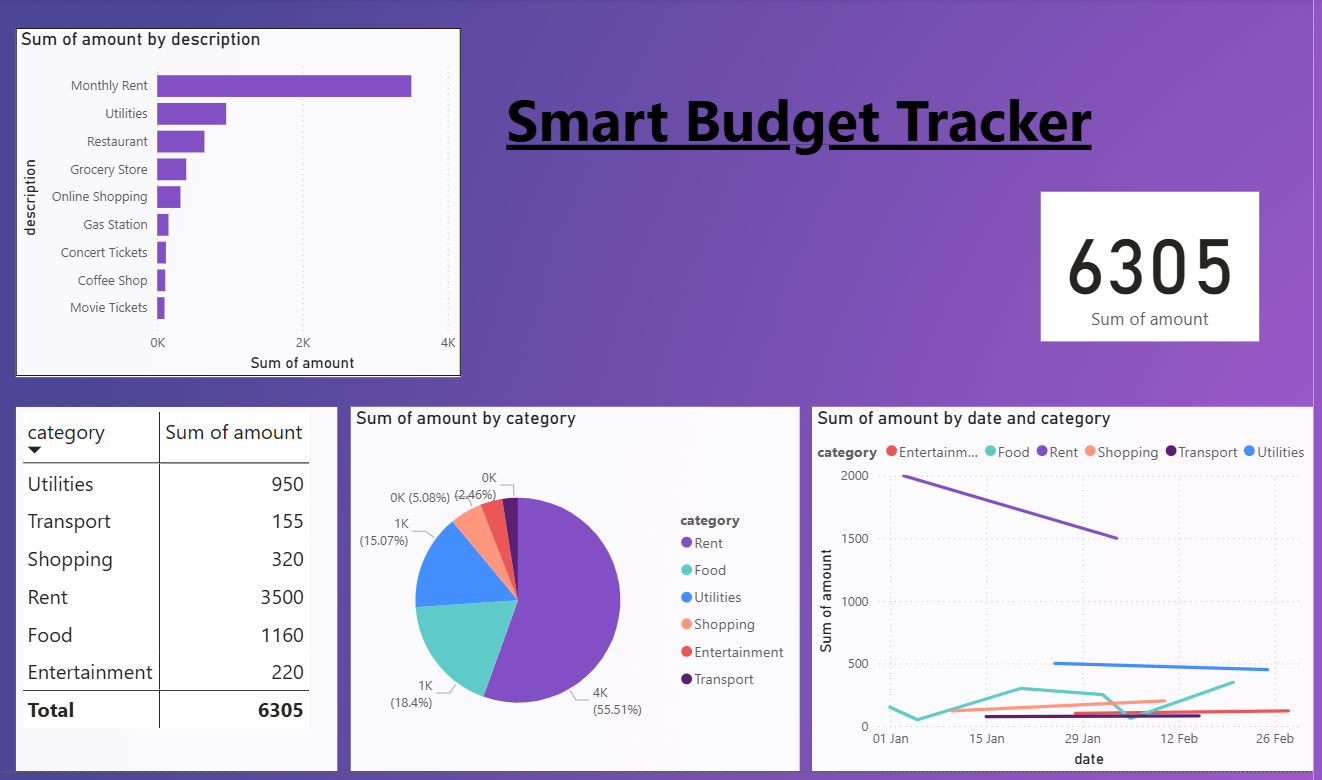

The dashboard page shown, as its layout file describes it:
{"tool":"powerbi","page":{"name":"Page 1","canvas":[1280,720],"ordinal":0},"visuals":[{"type":"lineChart","fields":{"Series":["Sheet1.category"],"Y":["Sum(Sheet1.amount)"],"Category":["Sheet1.date"]},"box":[814,380.2,466.3,340.7],"z":1000},{"type":"clusteredBarChart","fields":{"Category":["Sheet1.description"],"Y":["Sum(Sheet1.amount)"]},"box":[73.3,27.9,414,324.4],"z":2000},{"type":"tableEx","fields":{"Values":["Sheet1.category","Sum(Sheet1.amount)"]},"box":[73.3,380.2,298.8,339.5],"z":3000},{"type":"card","fields":{"Values":["Sum(Sheet1.amount)"]},"box":[1026.7,180.2,203.5,139.5],"z":4000},{"type":"textbox","box":[508.1,70.9,587.2,87.2],"z":5000},{"type":"pieChart","fields":{"Category":["Sheet1.category"],"Y":["Sum(Sheet1.amount)"]},"box":[384.9,380.2,417.4,339.5],"z":5001}]}

Visuals, with their boxes in screenshot pixels (x1, y1, x2, y2):
lineChart - Sheet1.category x Sum(Sheet1.amount): bbox(798, 405, 1290, 765)
clusteredBarChart - Sheet1.description x Sum(Sheet1.amount): bbox(15, 33, 453, 375)
tableEx - Sheet1.category x Sum(Sheet1.amount): bbox(15, 405, 331, 763)
card - Sum(Sheet1.amount): bbox(1022, 194, 1237, 341)
textbox: bbox(475, 78, 1095, 170)
pieChart - Sheet1.category x Sum(Sheet1.amount): bbox(344, 405, 785, 763)
